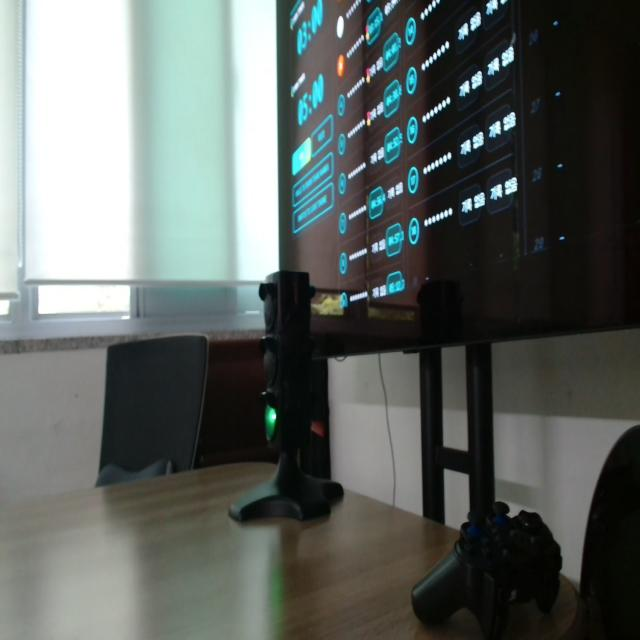green_light: (265, 407, 276, 441)
